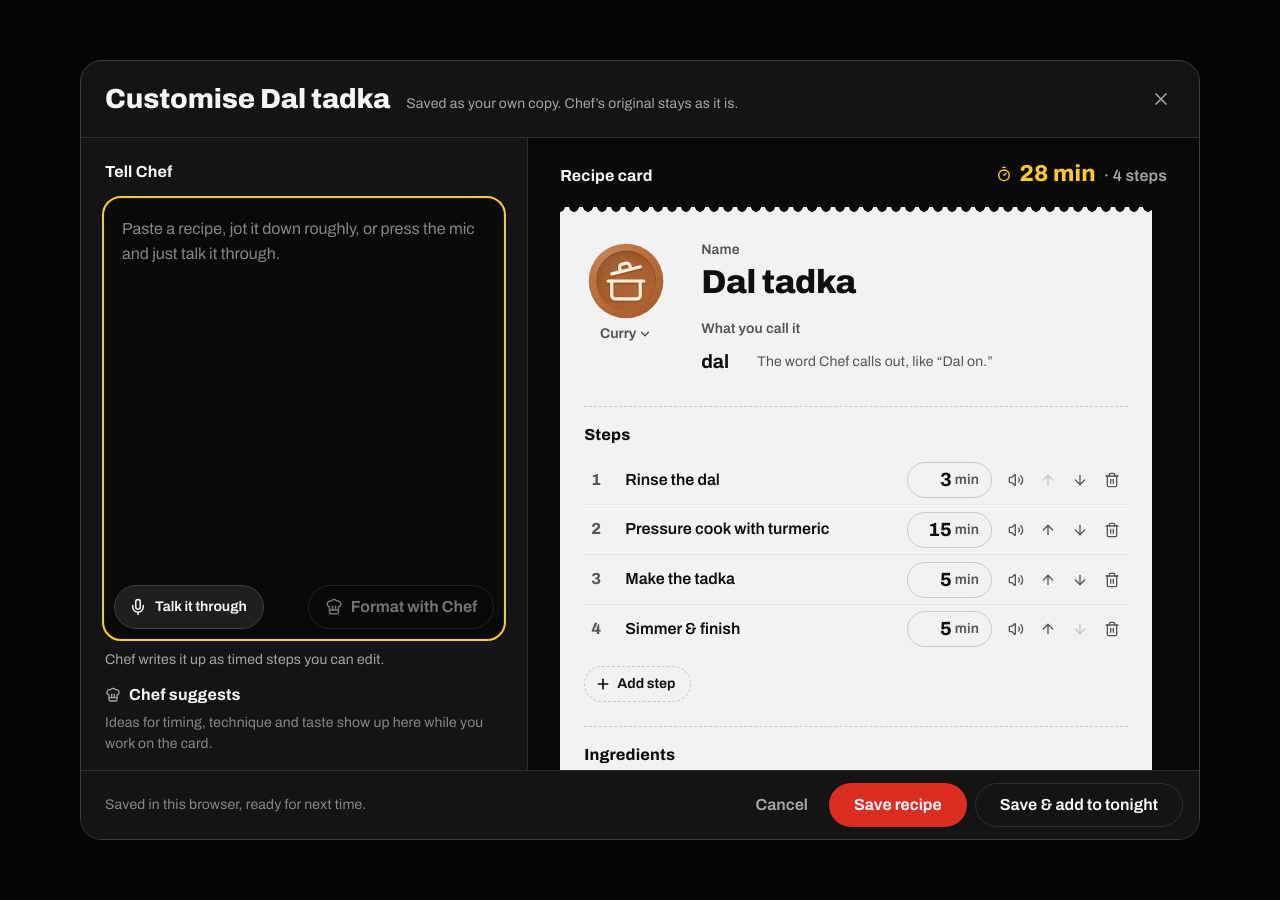
RecipeStudio › keeps hand edits made while Chef is reading, and says so
Type "Add a pinch of hing to the tadka." into the text box with test id "studio-text" at x=304, y=388, box [106, 200, 502, 577]
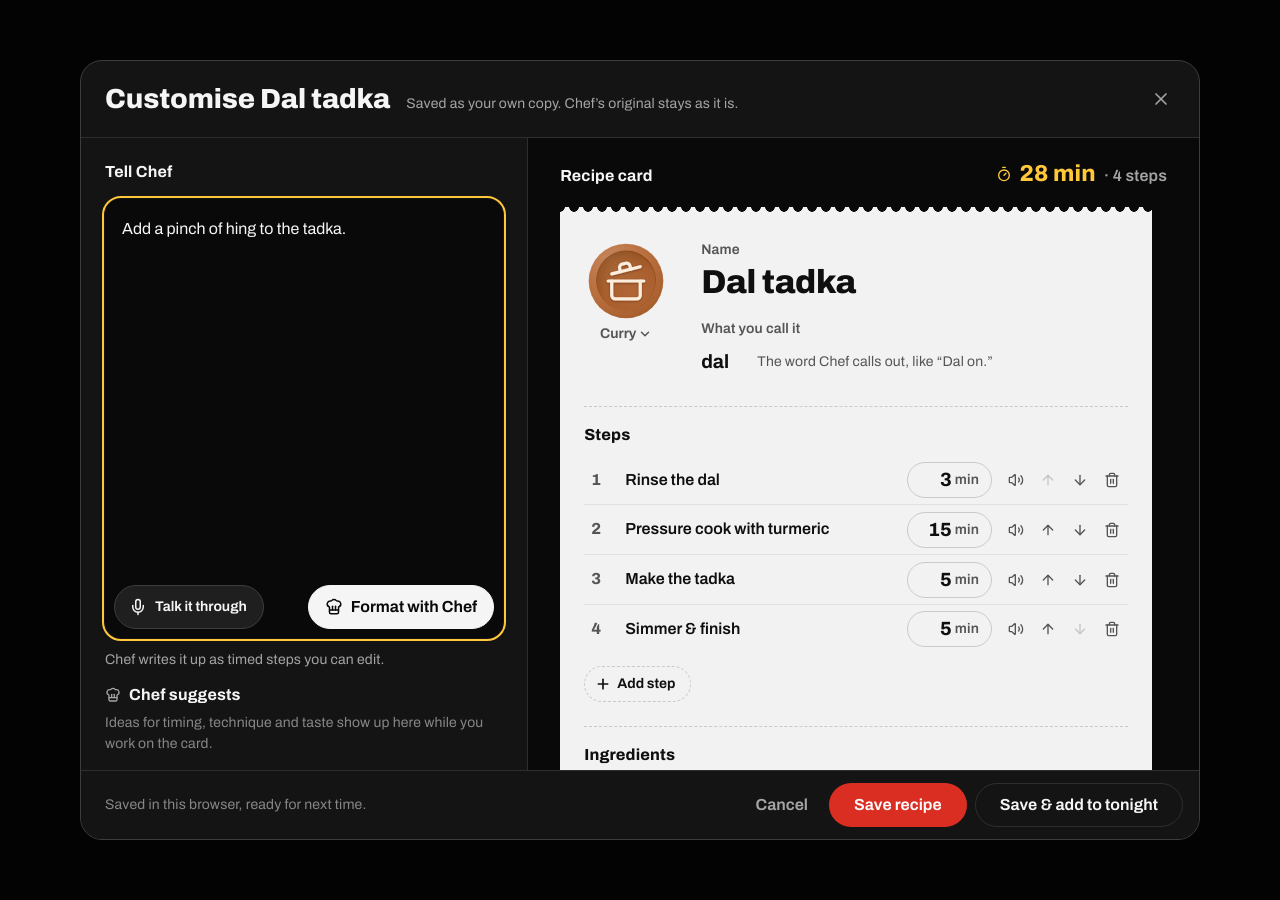
Click the button with test id "studio-format" at x=401, y=607, box [308, 585, 494, 629]
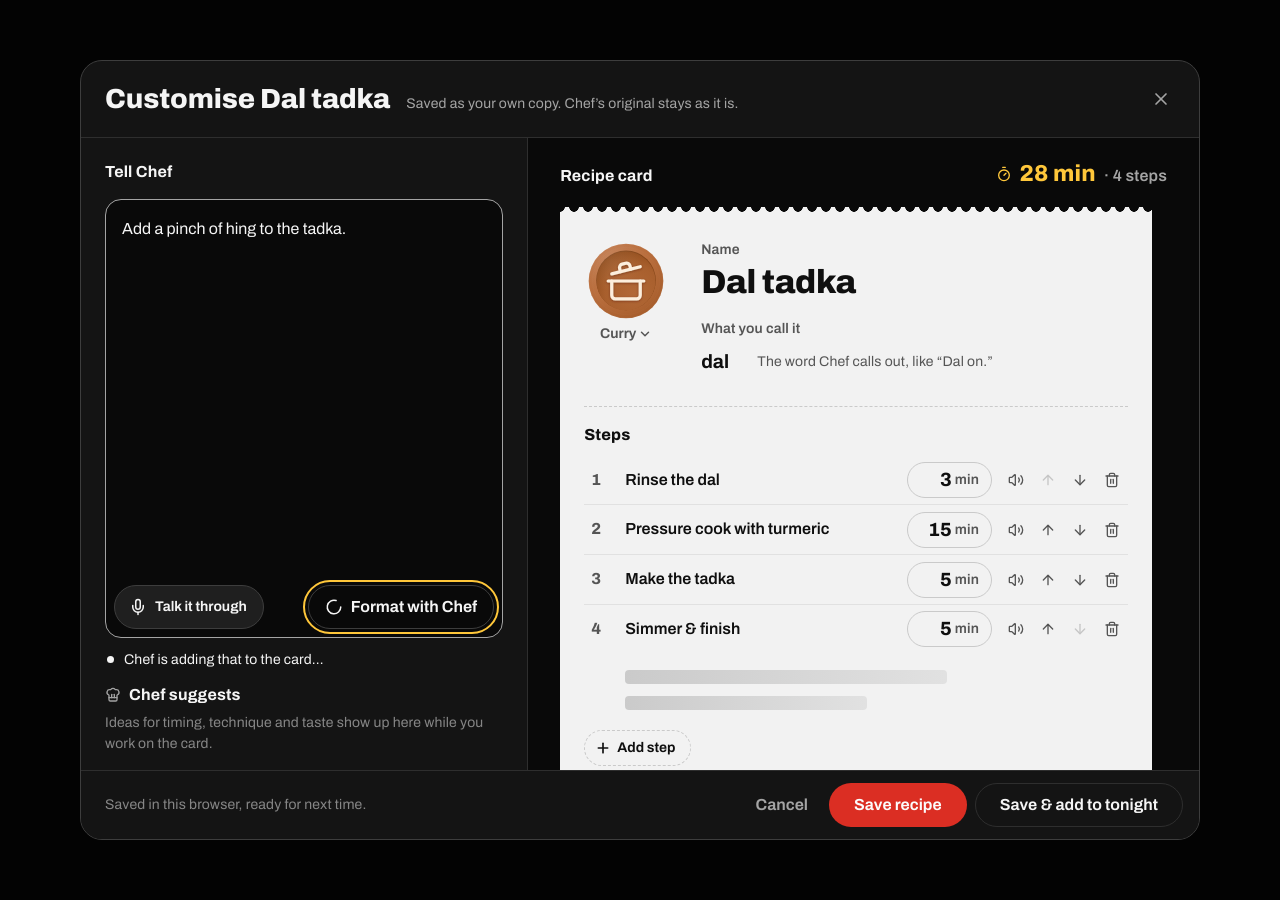
Replace the text in the number field named "Step 2 minutes" with "20" at x=932, y=530, box [912, 515, 952, 544]
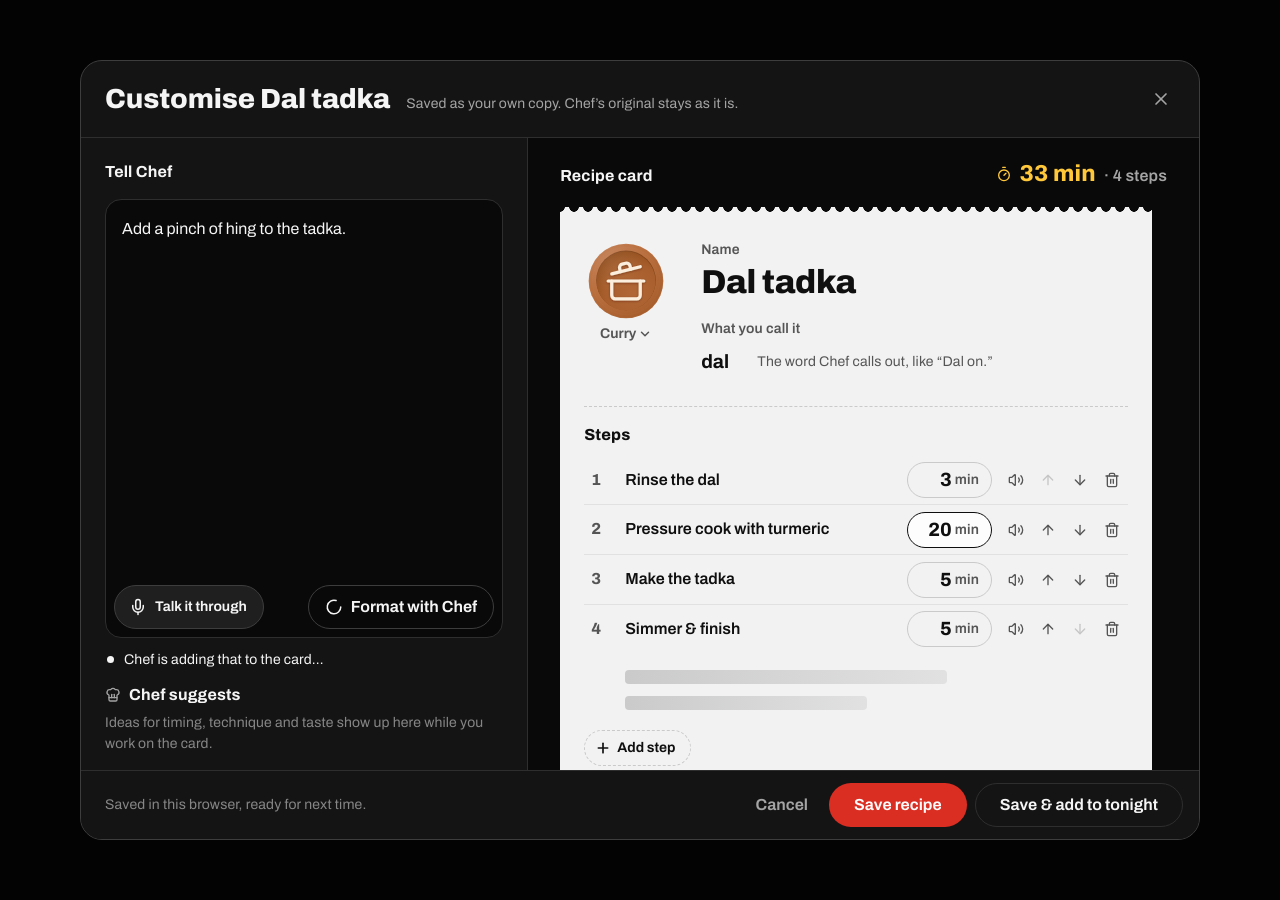
Click the button named "Delete step 4" at x=1112, y=629, box [1096, 613, 1128, 645]
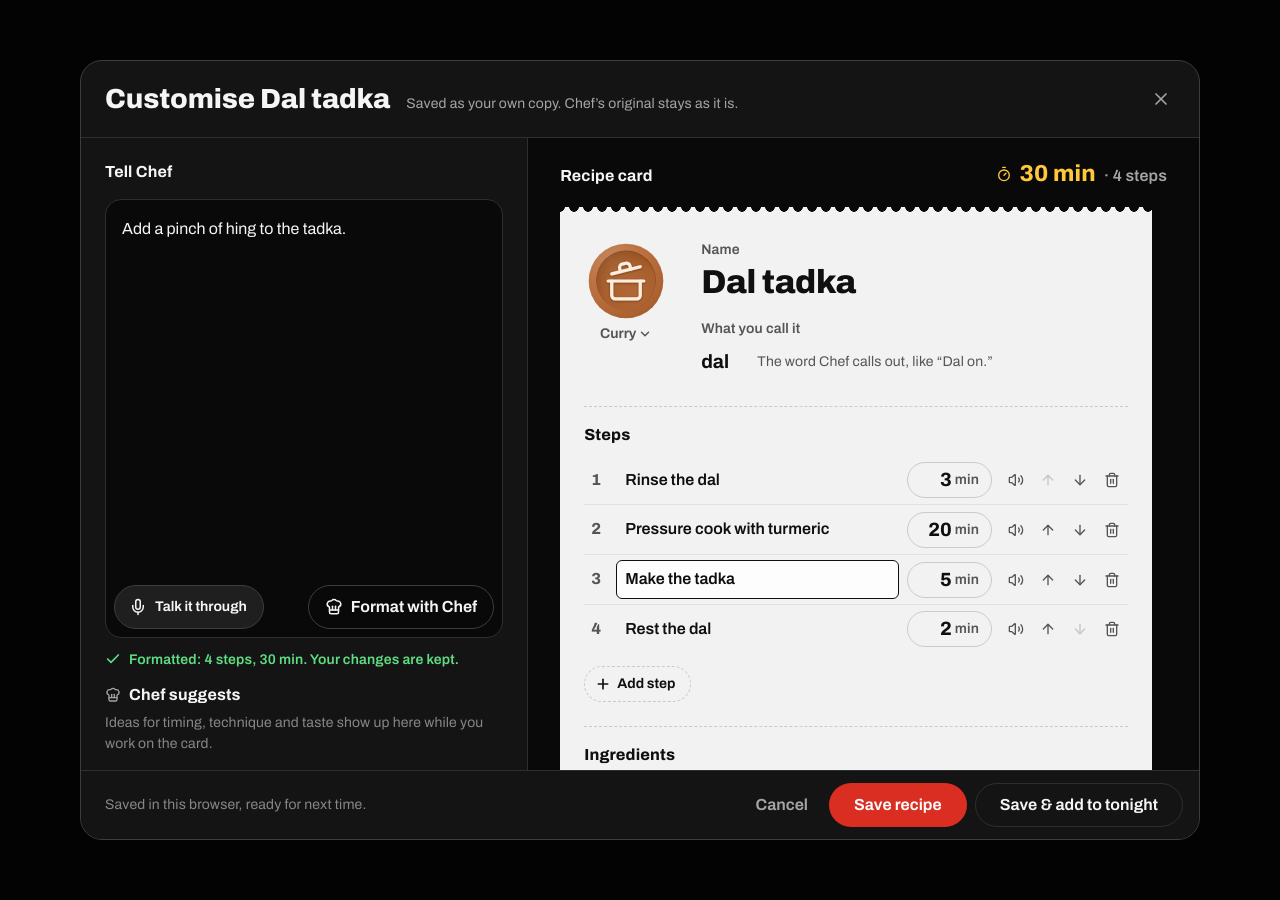
Expected: the field named "Step 4" holds "Rest the dal", [616, 610, 899, 649]
Expected: the message with test id "studio-status" shows "Your changes are kept.", [129, 652, 459, 667]
